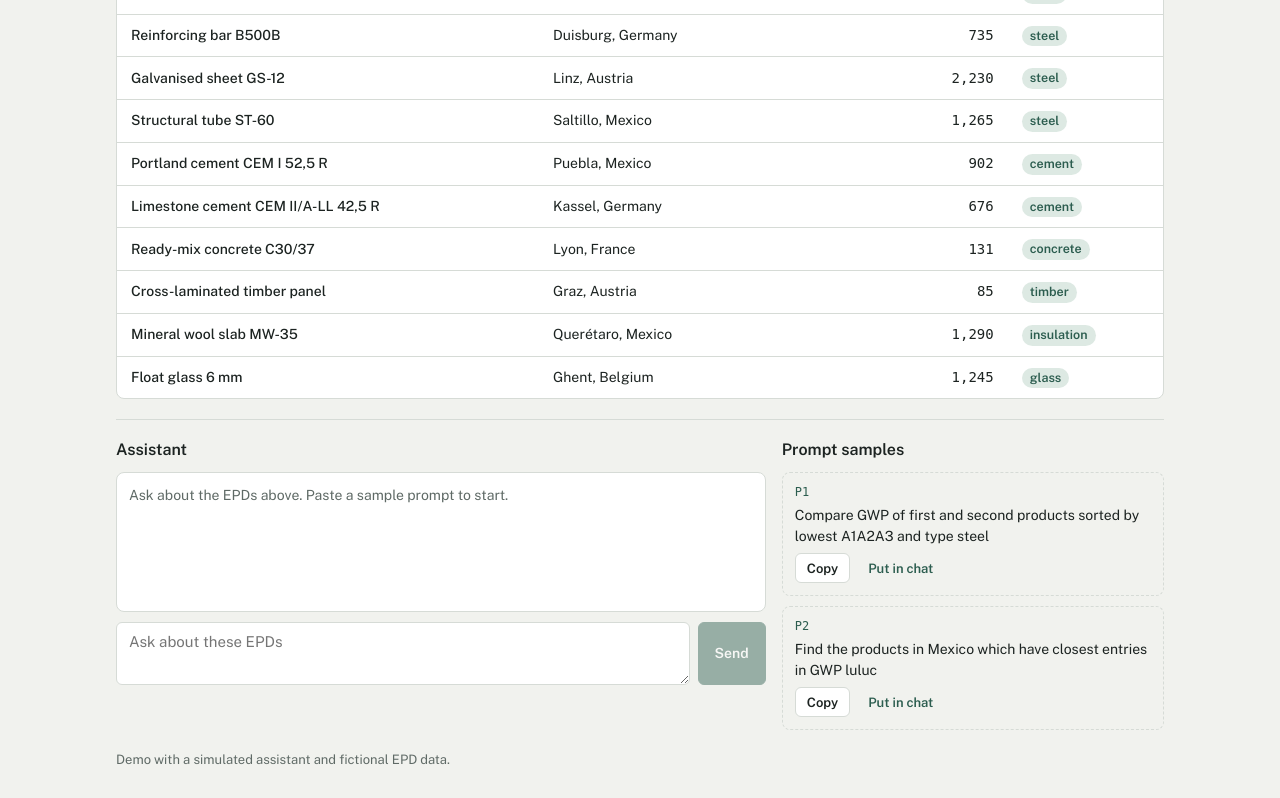
Scenario: assistant › answers other prompts by pointing to the samples
(page scrolled)
Click the text box named "Message the assistant" at (403, 654), box [116,622,690,685]
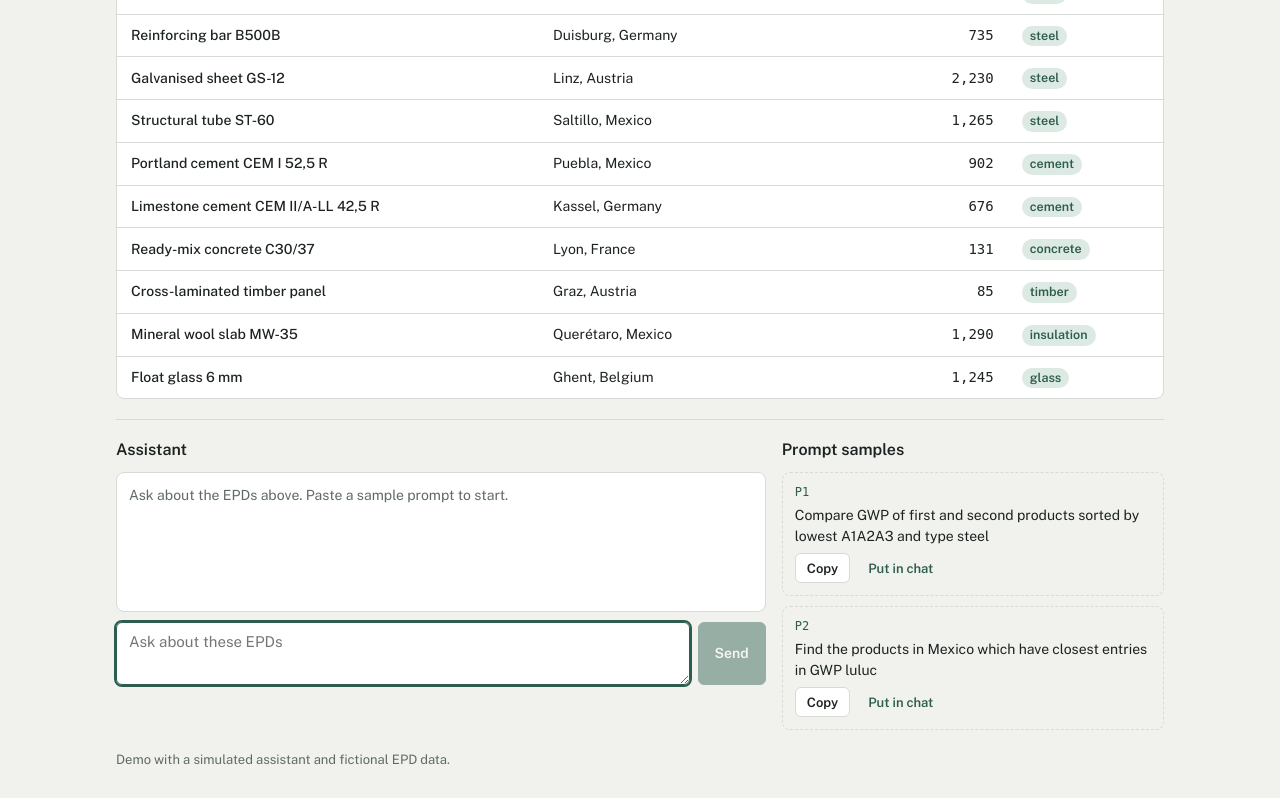
Type keys "Which is the greenest cement?"
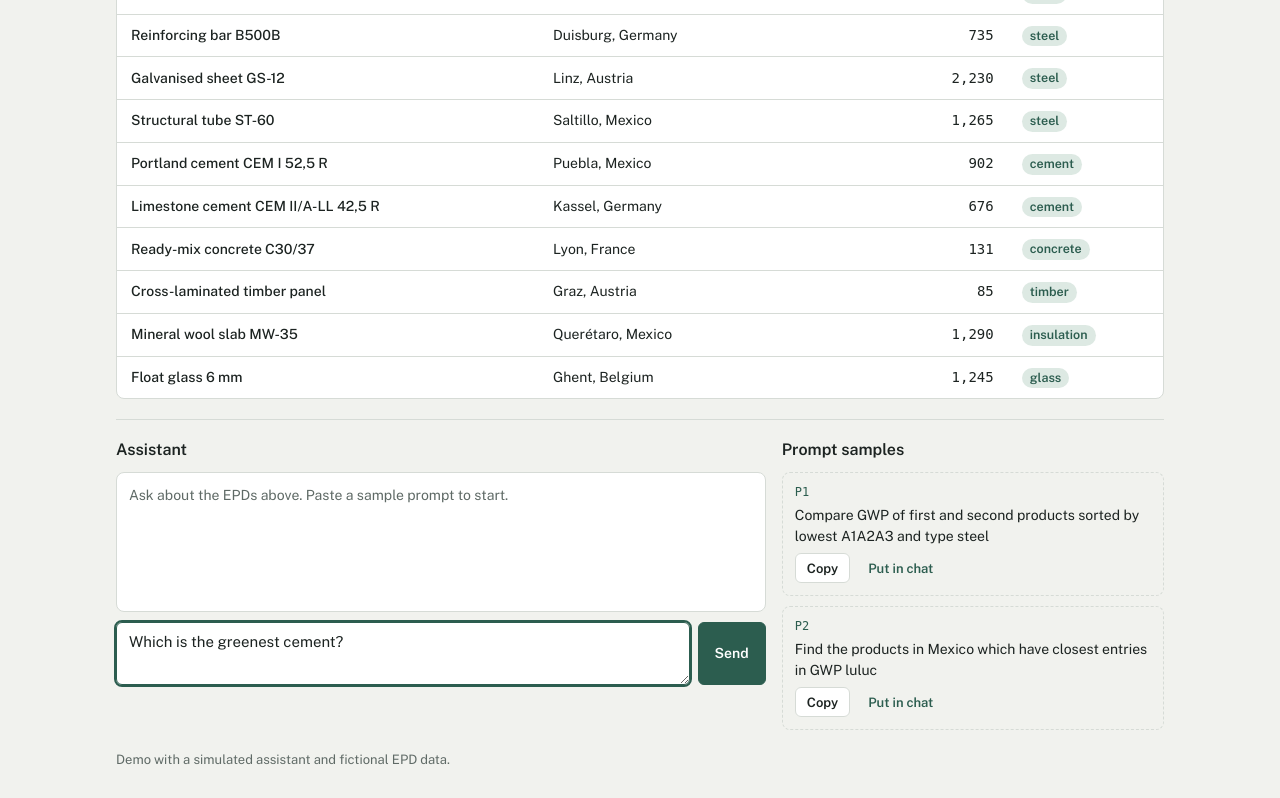
Click the button "Send" at (732, 654), box [698,622,766,685]
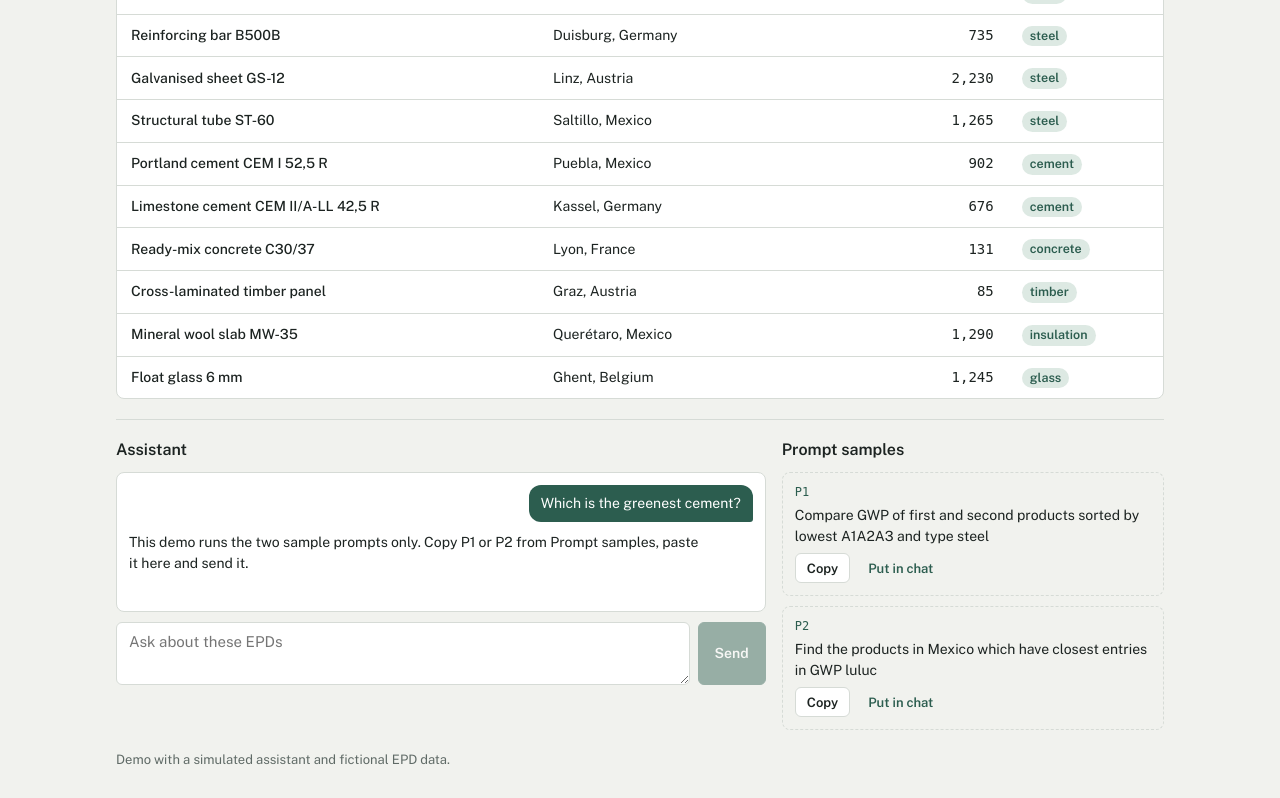
Expected: the text "runs the two sample prompts only" is shown, [129,534,698,571]
